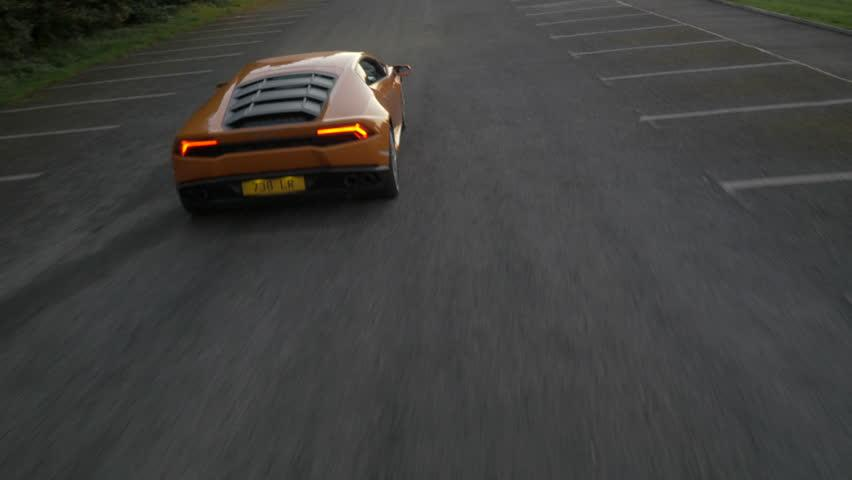car: (168, 50, 412, 218)
